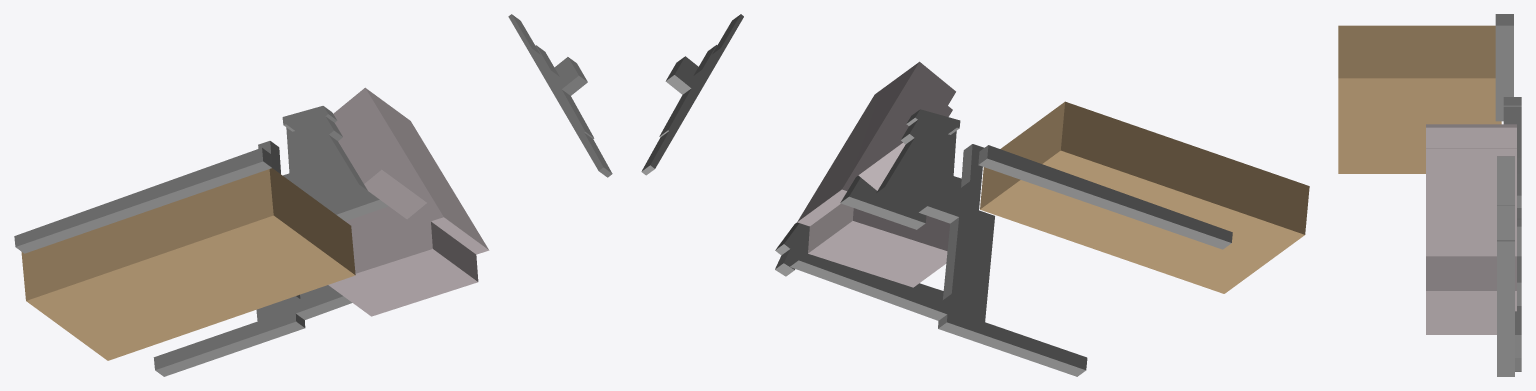
3 renders of one model, left to right at view 1: azimuth 30°, elevation 25°; view 2: azimuth 150°, elevation 25°; view 3: azimuth 270°, elevation 25°, orthographic.
Parts seen in each view (by area): view 1: 0_3_0_1_2_2_1_0; view 2: 0_3_0_1_2_2_1_0; view 3: 0_3_0_1_2_2_1_0.
Boxes of the visible parts, x1,y1,x2,y2 form: 0_3_0_1_2_2_1_0: [14, 14, 612, 376]; 0_3_0_1_2_2_1_0: [641, 14, 1309, 376]; 0_3_0_1_2_2_1_0: [1338, 14, 1521, 376].
Size of the model in its own units: 112 by 49.56 by 30.3.
